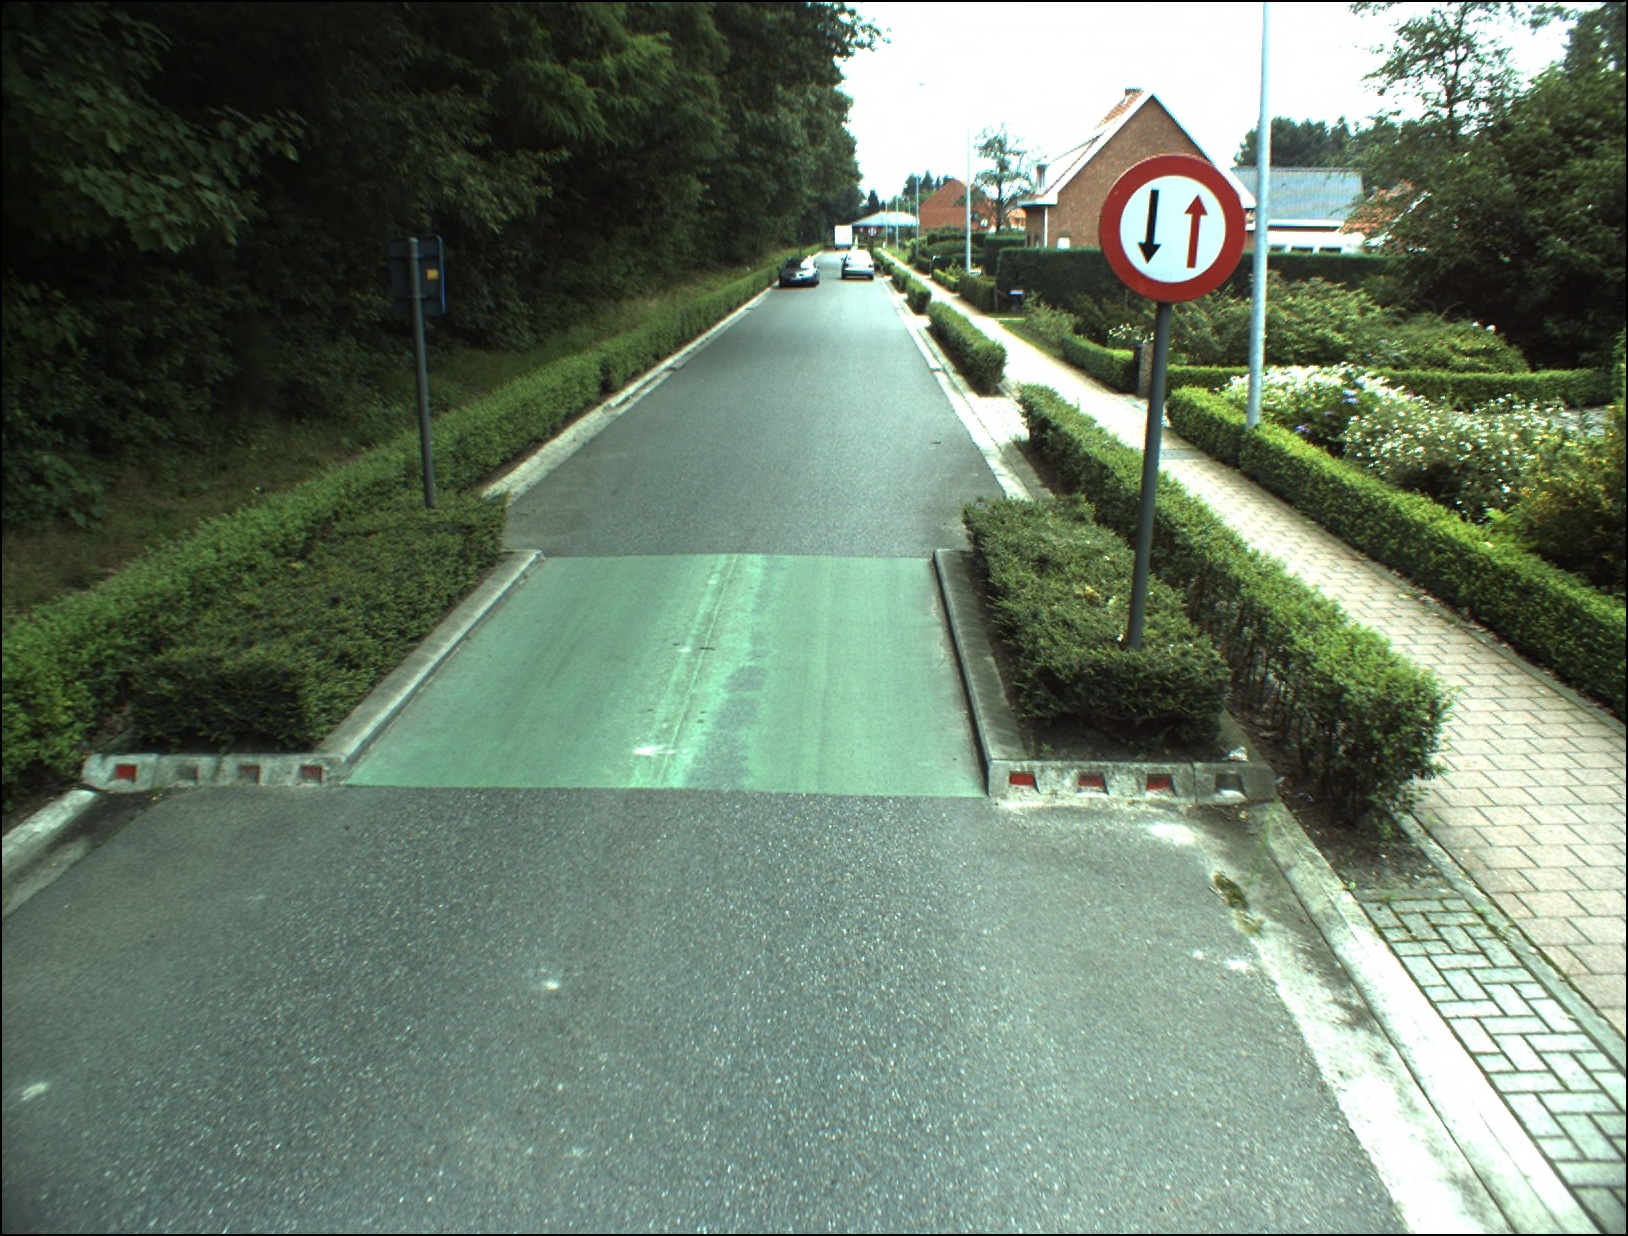roadnarrow2: (1101, 154, 1244, 300)
